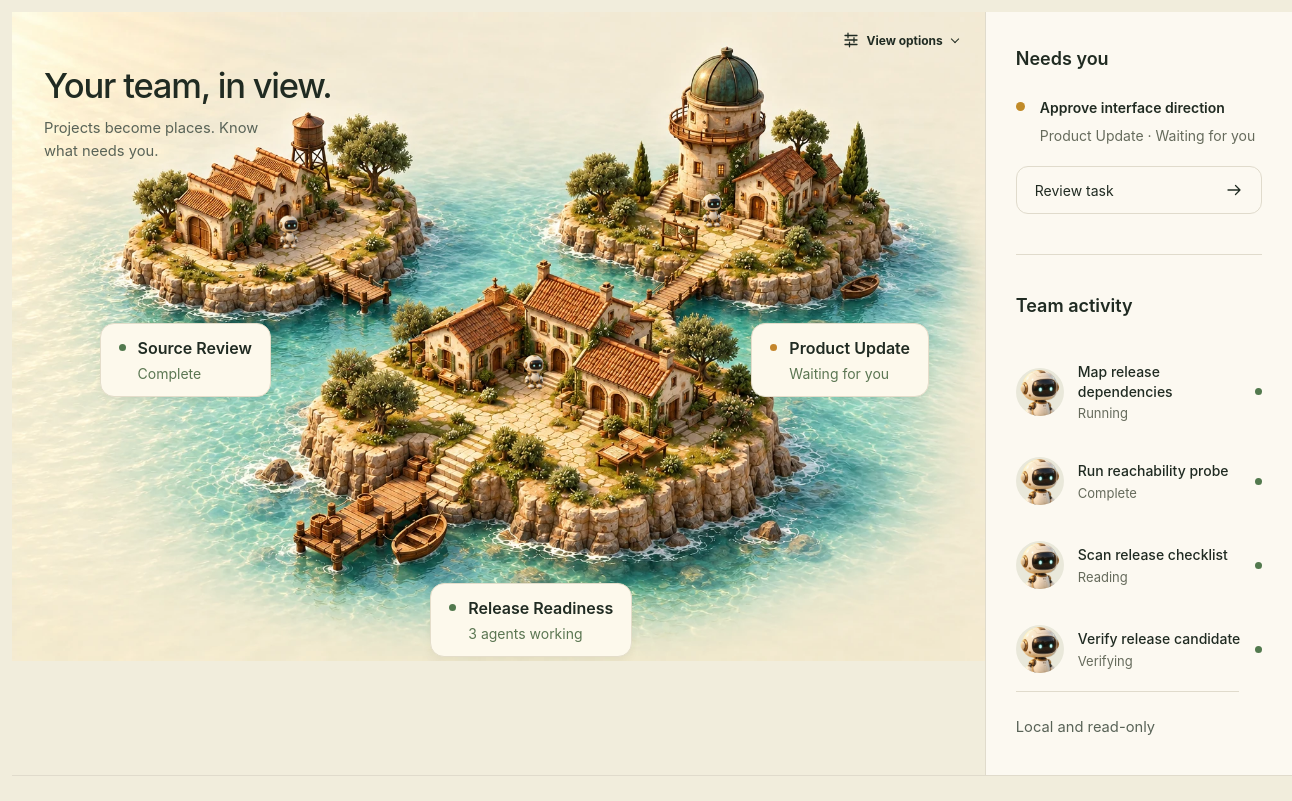
Test: semantic agent world › keeps secondary controls behind a native View options disclosure
Click the heading "View options": (893, 40) top-left (842, 31), bottom-right (943, 49)
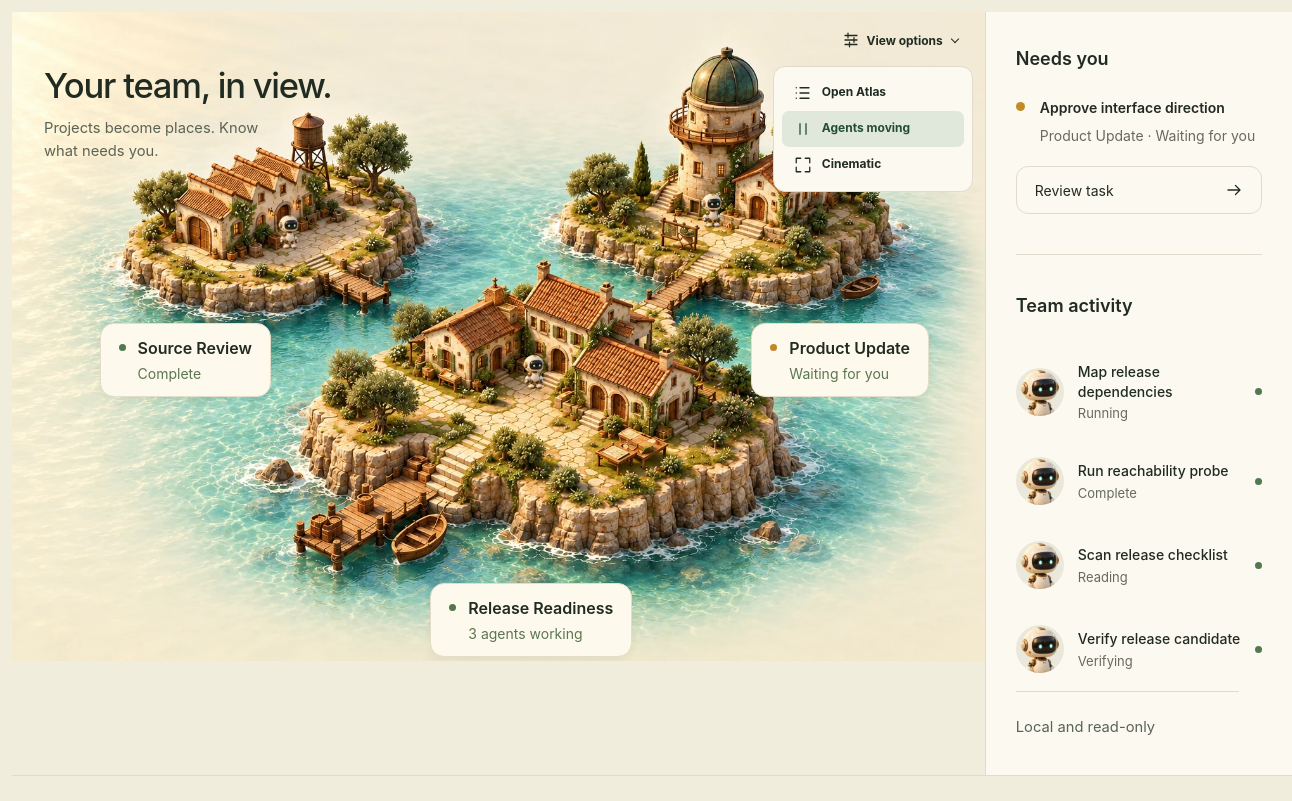
Now the button "Open Atlas" is shown, box top-left (782, 75), bottom-right (964, 111)
Now the button with aria-label "Pause agent movement" is shown, box top-left (782, 111), bottom-right (964, 147)
Now the button with aria-label "Open cinematic view" is shown, box top-left (782, 147), bottom-right (964, 183)
